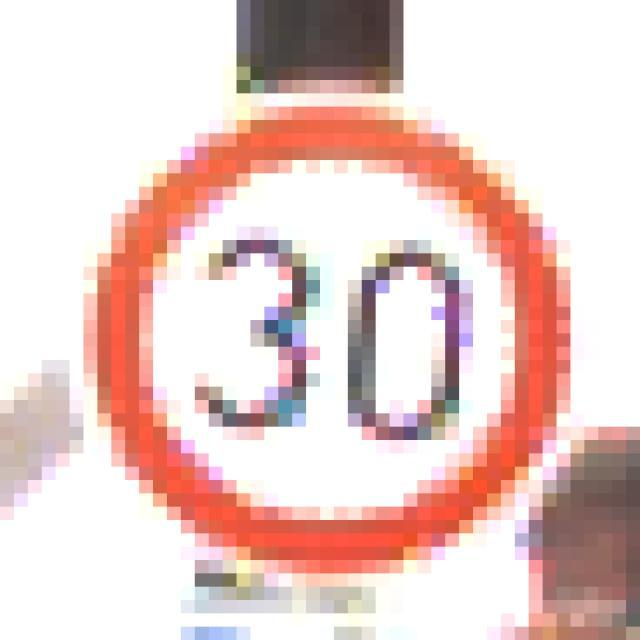Speed Limit -30-: (62, 73, 564, 567)
